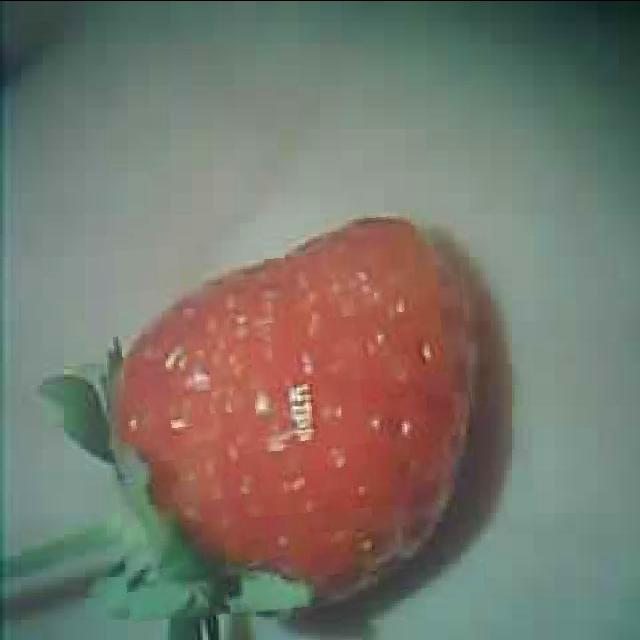strawberry: (104, 212, 480, 614)
